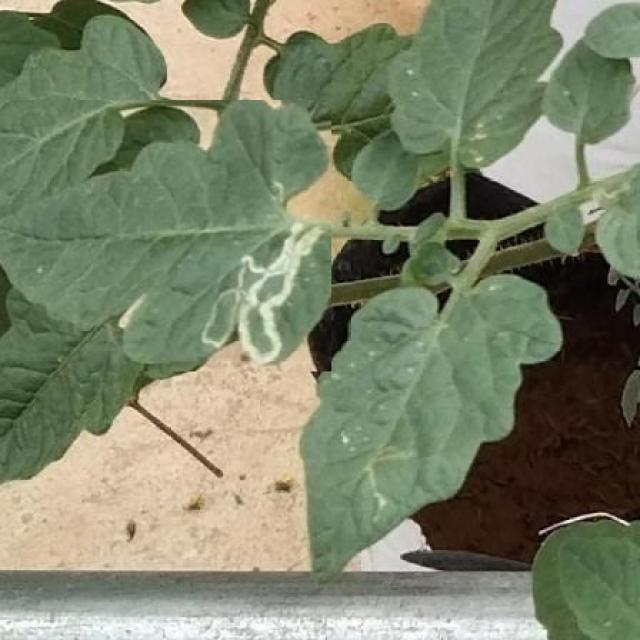Leaf Miner: (0, 99, 331, 371)
